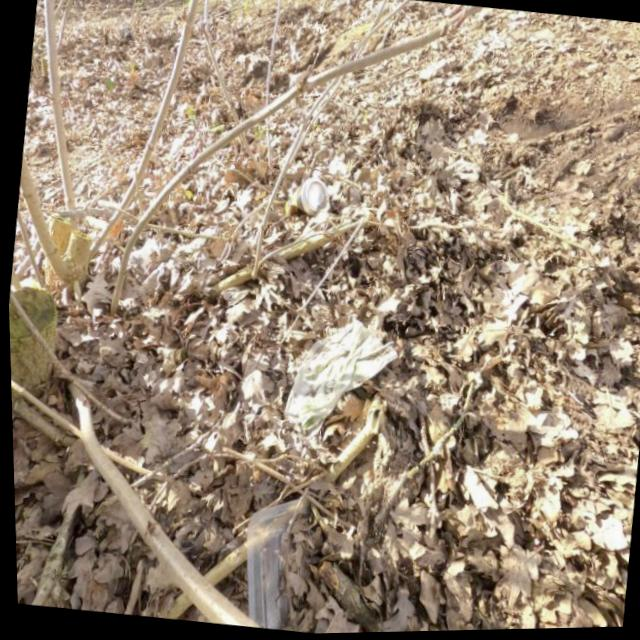Can-Metal: (281, 175, 331, 223)
Paper: (275, 310, 403, 452), (231, 491, 328, 636)
